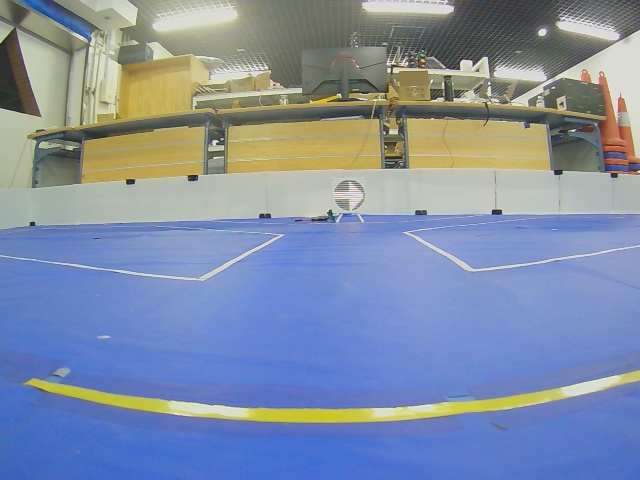right_yellow: (333, 179, 366, 212)
